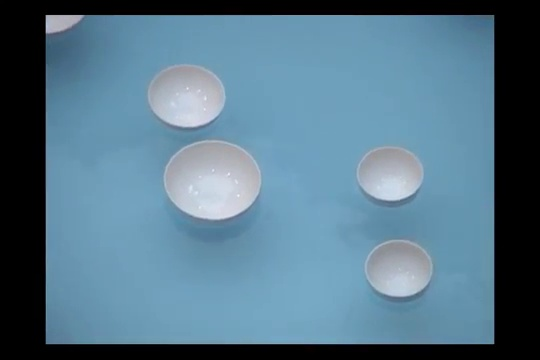bowl: (164, 139, 261, 228), (148, 63, 225, 132), (365, 239, 432, 307), (356, 146, 424, 209), (46, 15, 85, 41)
